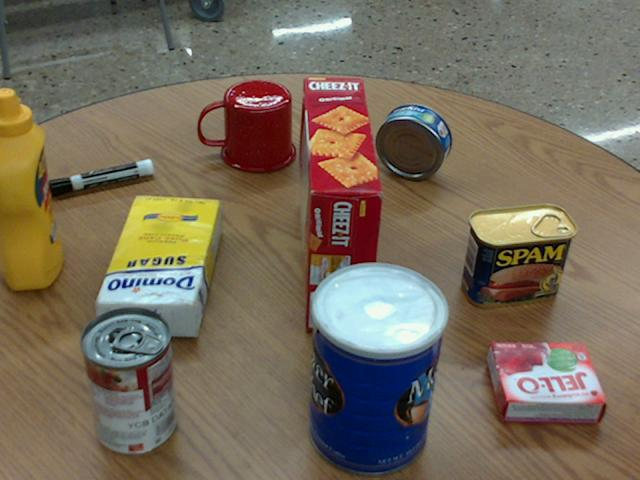cracker_box: (300, 77, 384, 330)
gelatin_box: (489, 341, 606, 423)
large_marker: (46, 158, 153, 194)
master_chef_can: (308, 263, 447, 476)
mug: (199, 80, 295, 172)
mustard_bottle: (0, 88, 61, 287)
potted_meat_can: (462, 204, 576, 307)
sugar_box: (94, 193, 220, 338)
tomato_soup_can: (78, 306, 174, 453)
tuna_fish_can: (375, 104, 450, 179)
